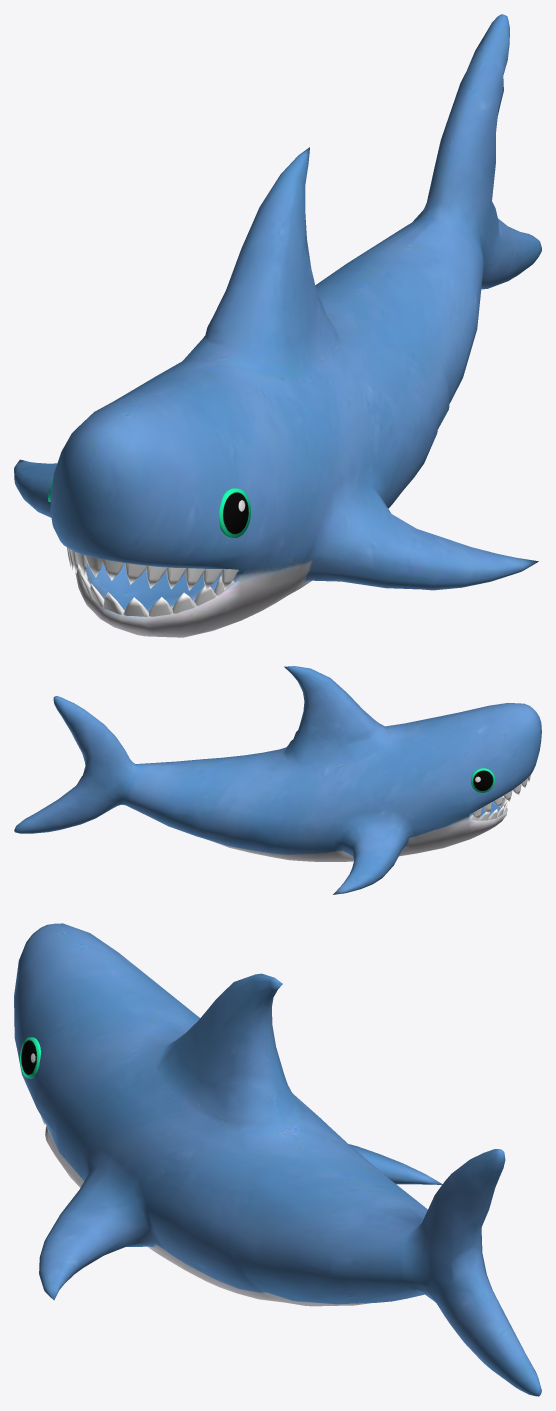
The picture shows the model from 3 angles, top to bottom: view 1: azimuth 30°, elevation 25°; view 2: azimuth 150°, elevation 25°; view 3: azimuth 270°, elevation 25°; orthographic projection. The views are drawn at different scales.
Parts seen in each view (by area): view 1: Sharkplush; view 2: Sharkplush; view 3: Sharkplush.
Boxes of the visible parts, x1,y1,x2,y2 form: Sharkplush: (14,14,541,637); Sharkplush: (14,666,541,894); Sharkplush: (14,923,541,1396).
Bounding box in the file's own units: 7.59 × 3.65 × 5.51.
Materials: 2 (2 with a texture image).
